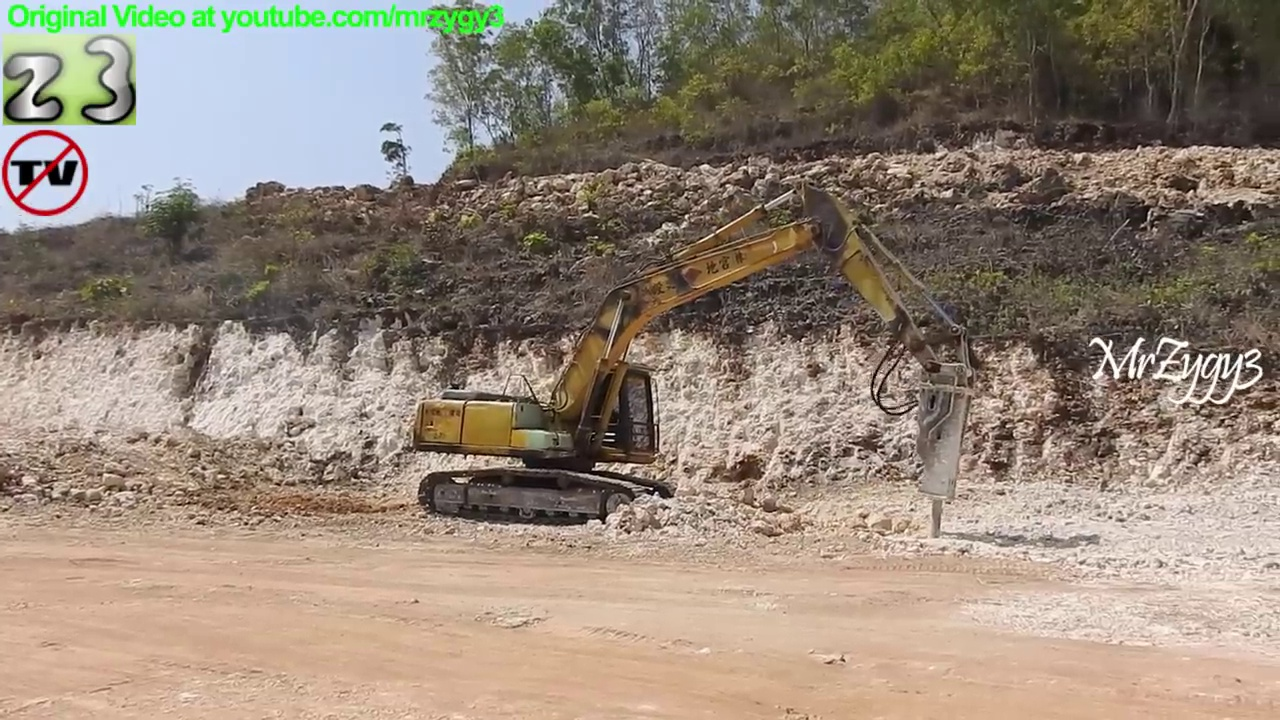excavator breaker: (402, 168, 991, 547)
